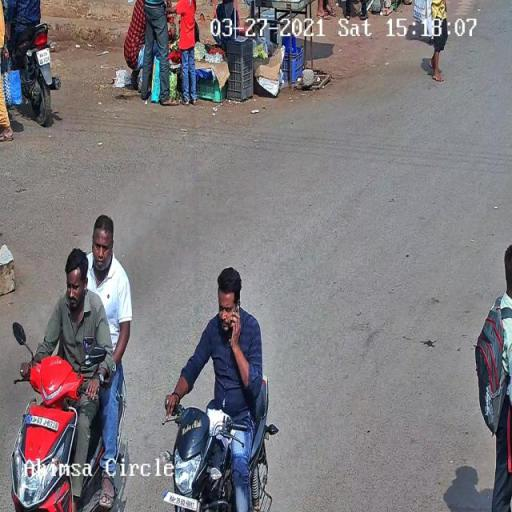using mobile: (220, 293, 247, 341)
